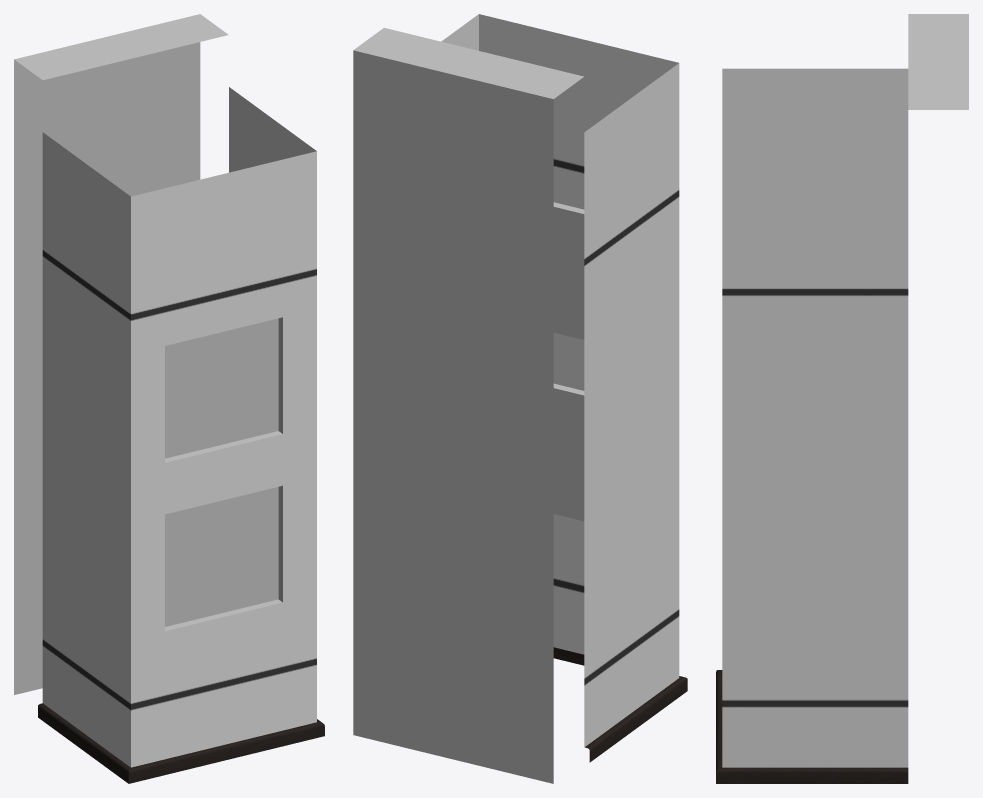
The model's file is Pillar03.FBX.
3 views of the same model, side by side, from view 1: azimuth 30°, elevation 25°; view 2: azimuth 150°, elevation 25°; view 3: azimuth 270°, elevation 25° (orthographic). The views are drawn at different scales.
Visible parts, largest first — view 1: Pillar03; view 2: Pillar03; view 3: Pillar03.
Part boxes in pixels (box(x1,y1,x2,y2)): Pillar03: box(14, 14, 324, 783); Pillar03: box(353, 14, 687, 783); Pillar03: box(716, 14, 968, 783).
Size of the model in its own units: 1.58 by 4.9 by 1.67.
